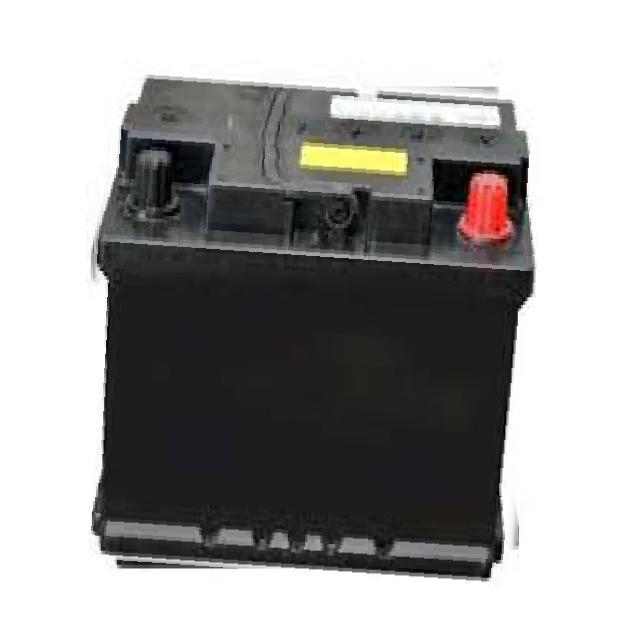Battery: (79, 58, 576, 601)
